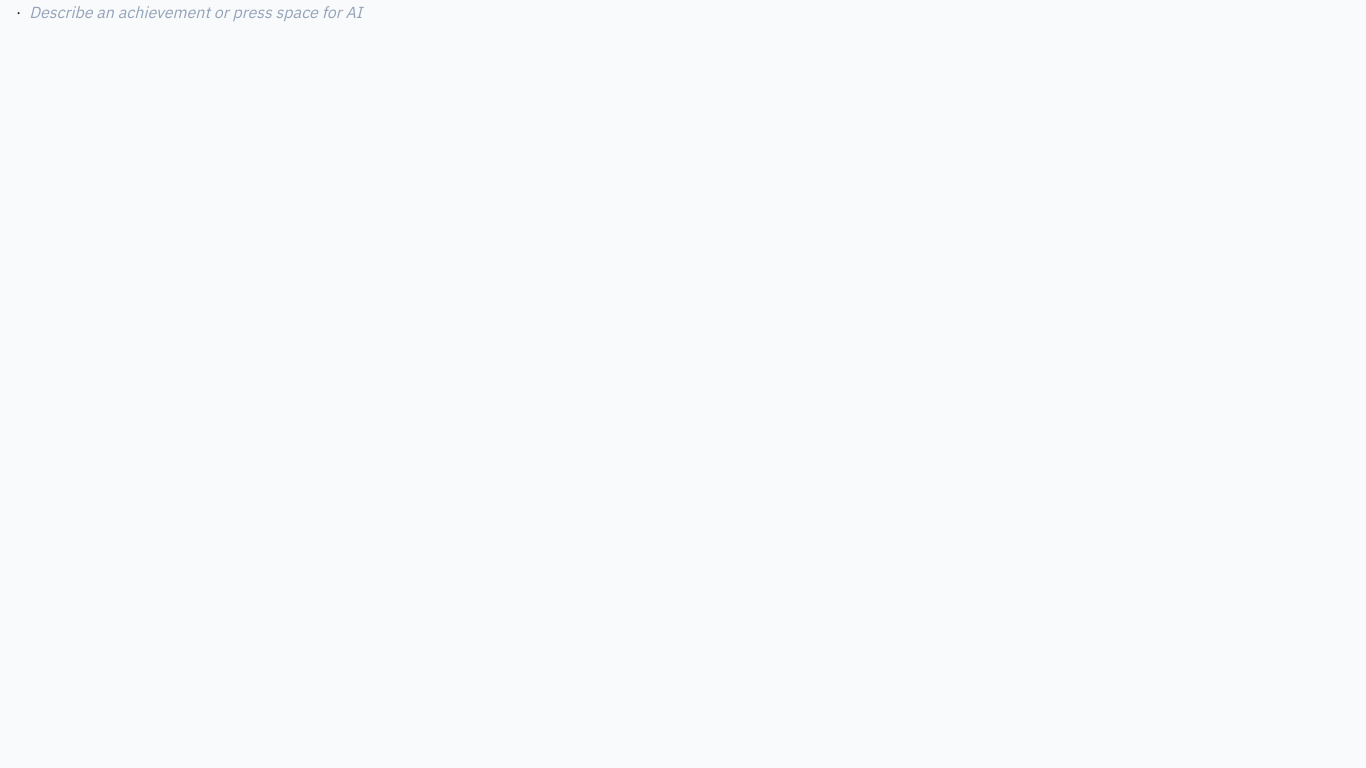
it: AssistHarness — section assist end-to-end › Generate applies 3 bullets to workExperience[0].bullets
Step 1. Press Space in the text box, box left=27, top=0, right=364, bottom=25
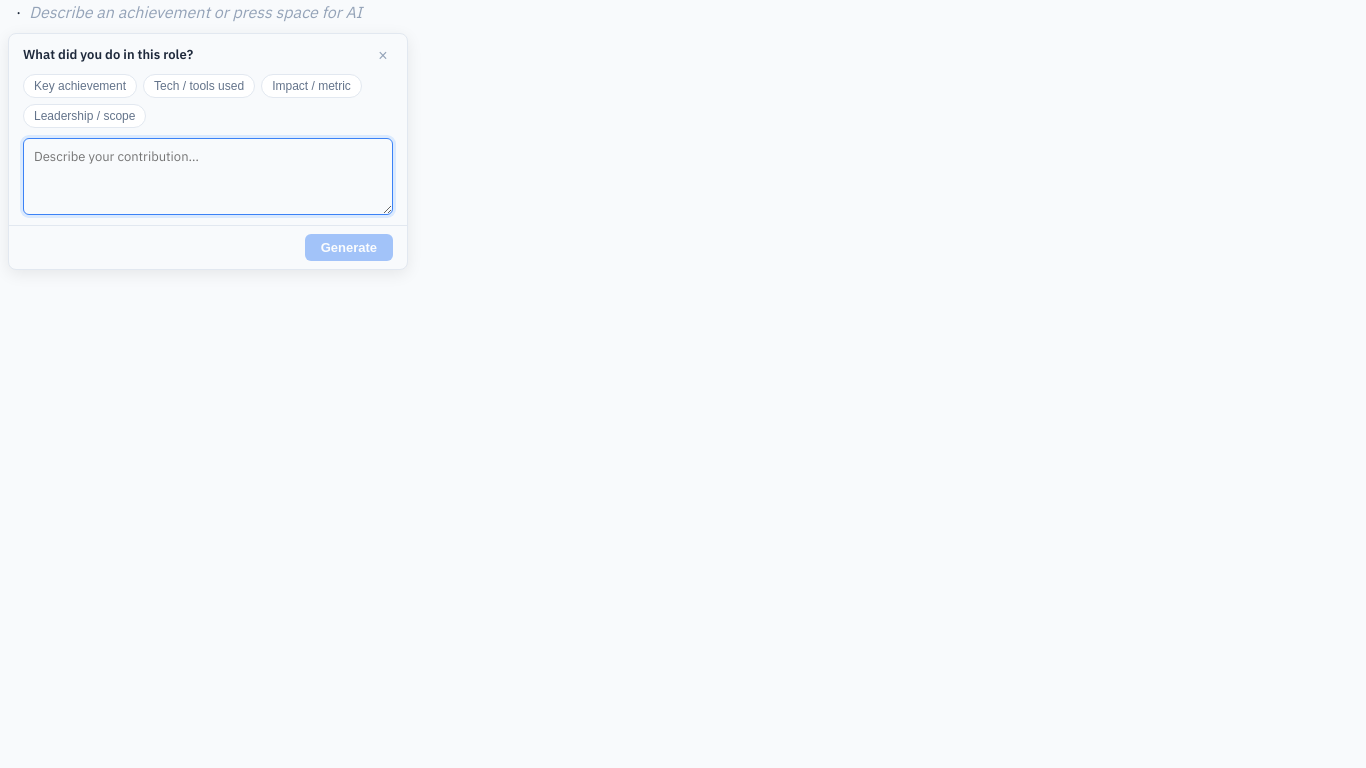
Check: the dialog is shown, box left=8, top=33, right=408, bottom=270
Step 2. Type "Led a team" into the text box with placeholder "Describe your contribution…" → (208,176), box left=23, top=138, right=393, bottom=214
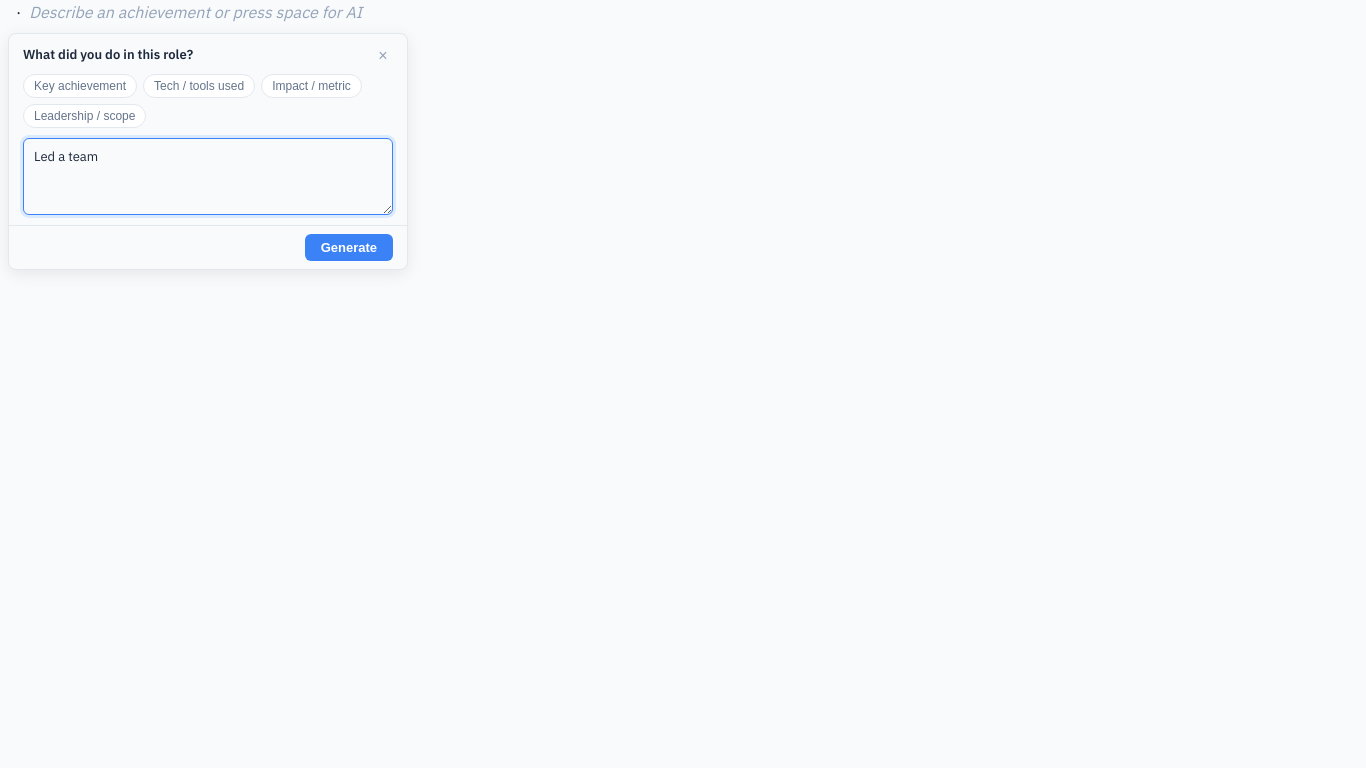
Step 3. Click the button "Generate" → (349,247), box left=305, top=234, right=393, bottom=260
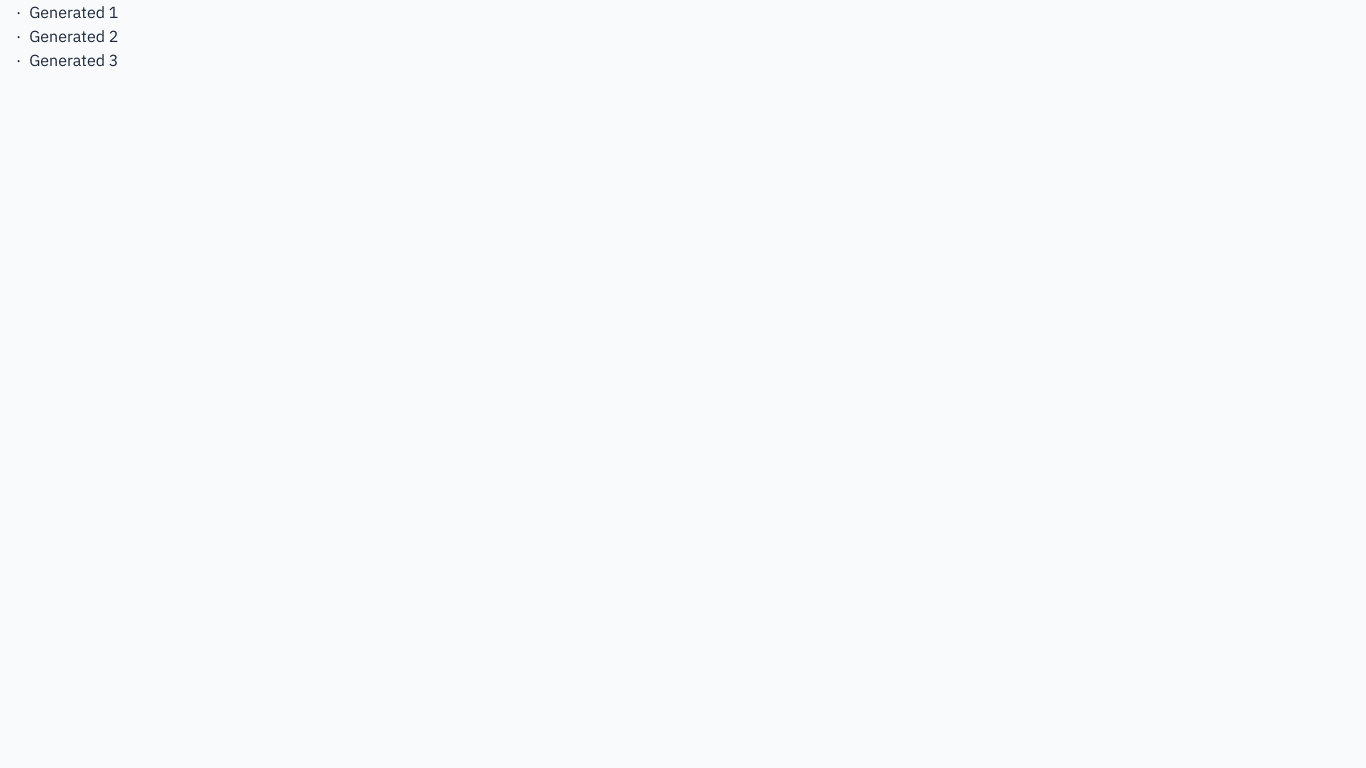
Check: the number of text boxes is 3, box left=27, top=0, right=120, bottom=25; left=27, top=23, right=120, bottom=49; left=27, top=47, right=120, bottom=73
